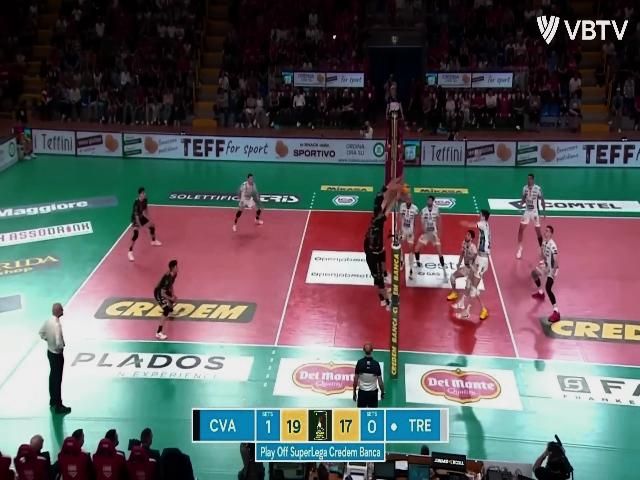volleyball court: (58, 203, 639, 365)
